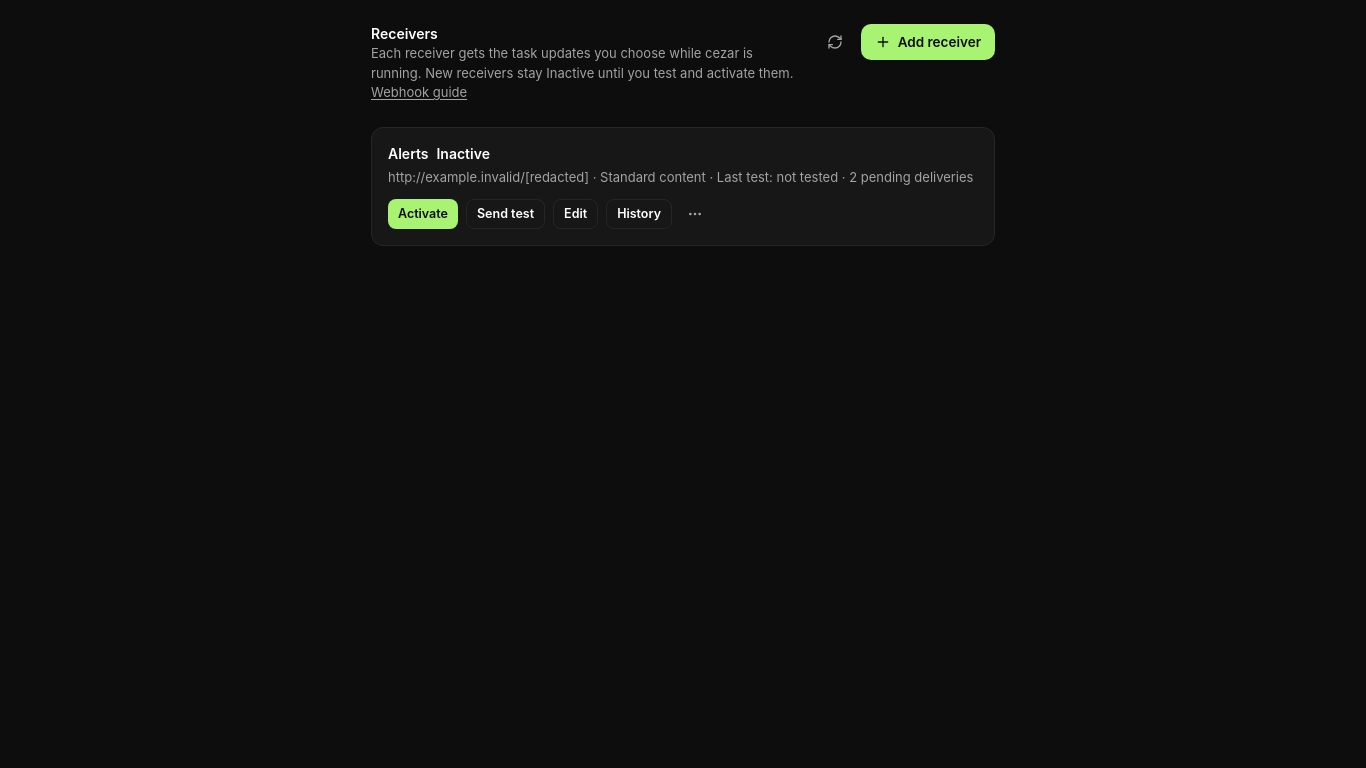
Test: independent webhook UI corrections › bounds activation scrolling without removing any disclosure or consent
Step 1. Click the button "Activate" → (423, 214), box [388,199,458,229]
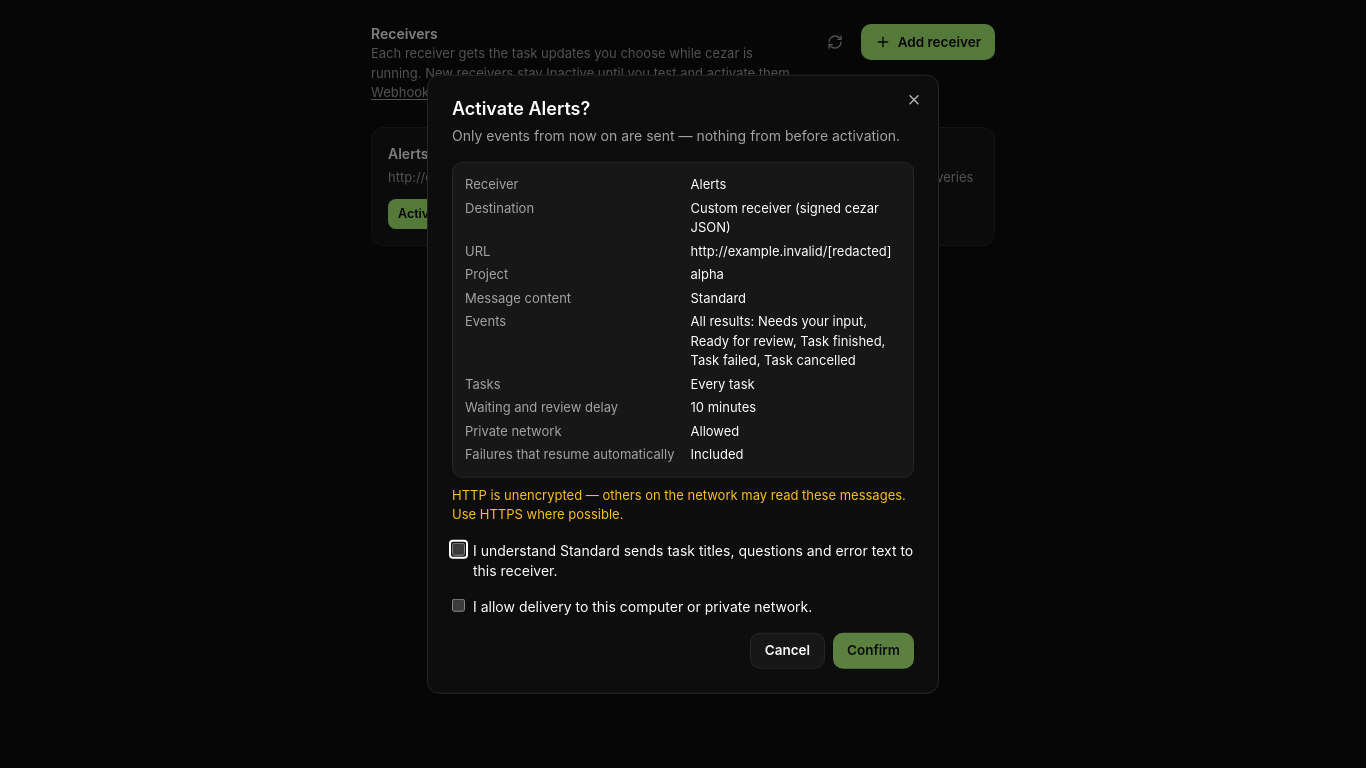
Check: the text "Receiver" is shown, box [465,176,518,192]
Check: the text "Destination" is shown, box [465,199,534,215]
Check: the text "URL" is shown, box [465,242,490,258]
Step 2. Click the 1st checkbox → (458, 549), box [452,542,465,555]
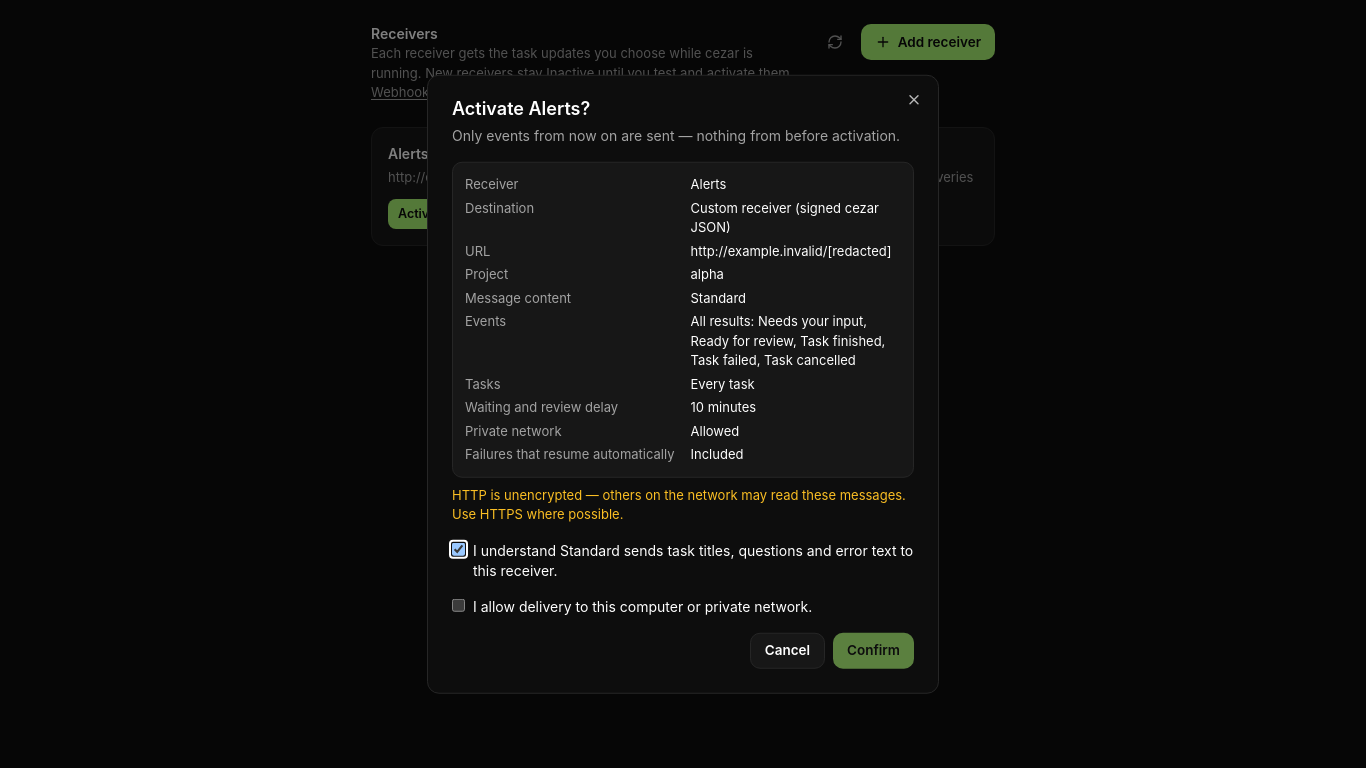
Step 3. Click the checkbox labelled "I allow delivery to this computer or private network." → (458, 605), box [452,598,465,611]
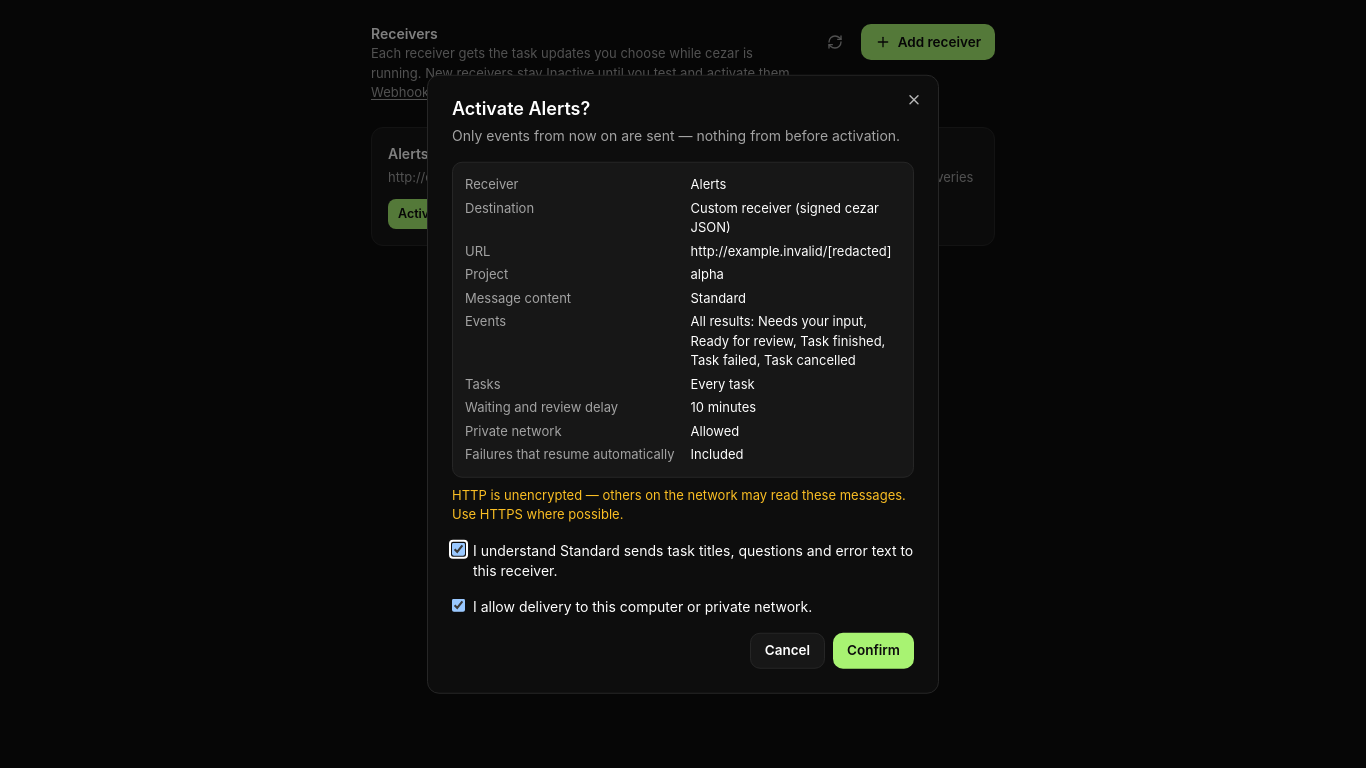
Check: the button "Cancel" is shown, box [750,632,825,668]
Check: the button "Confirm" is enabled, box [833,632,914,668]
